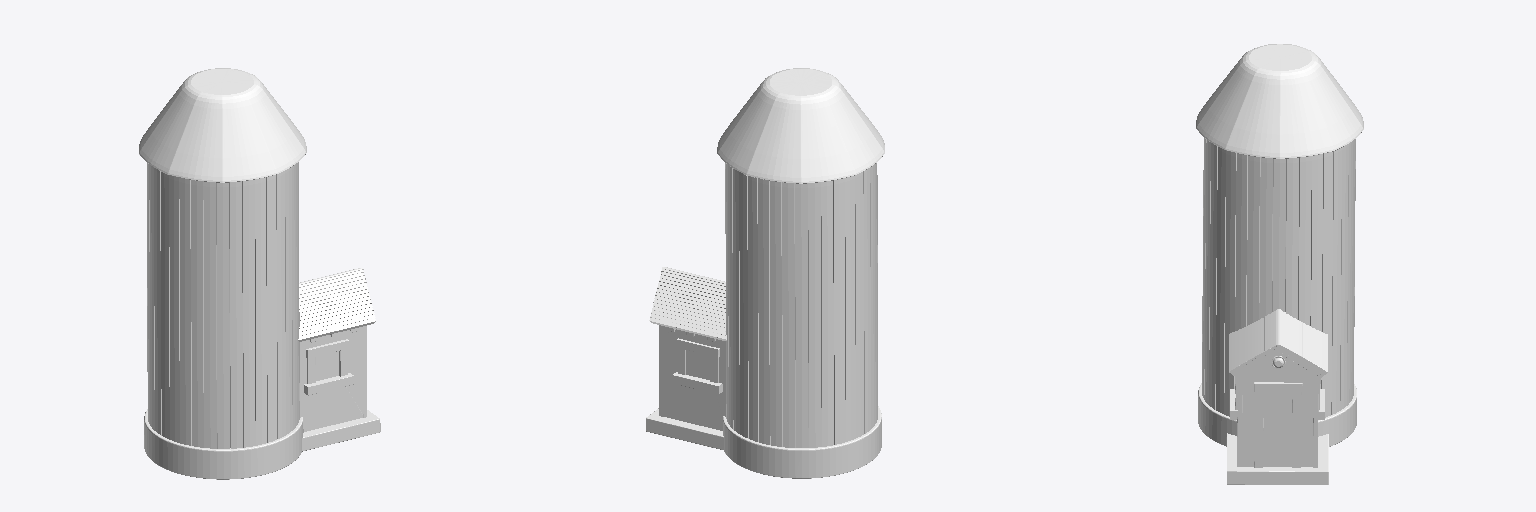
File: Silo.obj
The picture shows the model from 3 angles: view 1: azimuth 30°, elevation 25°; view 2: azimuth 150°, elevation 25°; view 3: azimuth 270°, elevation 25°; orthographic projection.
Visible parts, largest first — view 1: 20954_Farm_Silo; view 2: 20954_Farm_Silo; view 3: 20954_Farm_Silo.
Boxes of the visible parts, <box> form: 20954_Farm_Silo: <box>139,68,380,479</box>; 20954_Farm_Silo: <box>646,68,884,478</box>; 20954_Farm_Silo: <box>1196,44,1363,484</box>.
Size of the model in its own units: 5.89 by 9.7 by 4.05.